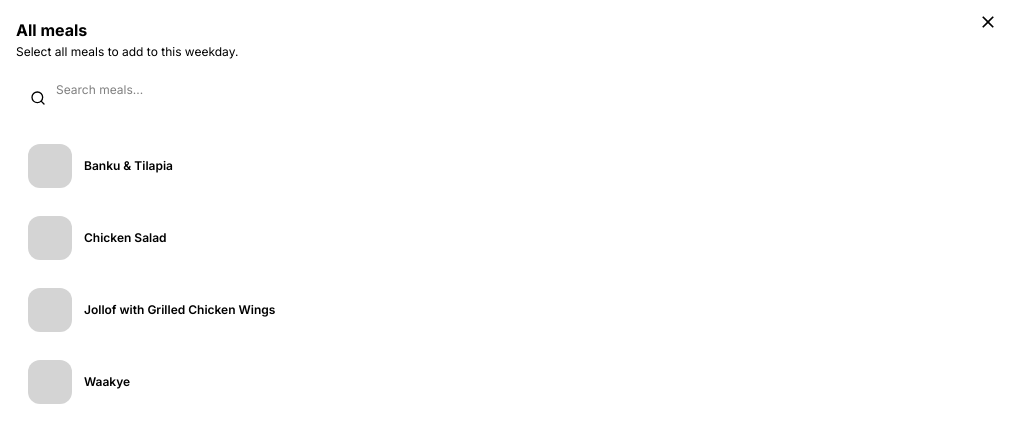
Scenario: AllMealsModalSheet › shows empty message when no meals match search
This screenshot has width=1013, height=421.
Type "nonexistent food" into the field with placeholder "Search meals..." at (506, 90), box 16,72 -> 996,108
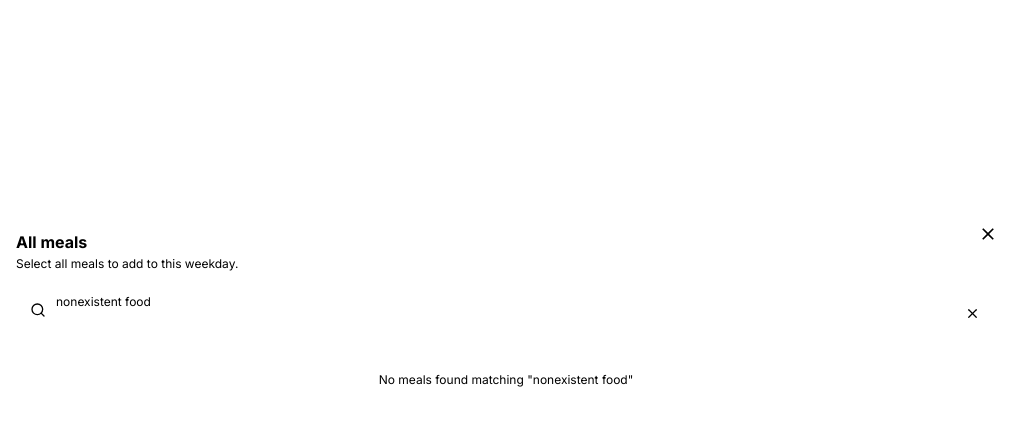
expect the text "No meals found matching \"nonexistent food\"" is shown: met, box 379,372 -> 633,387
